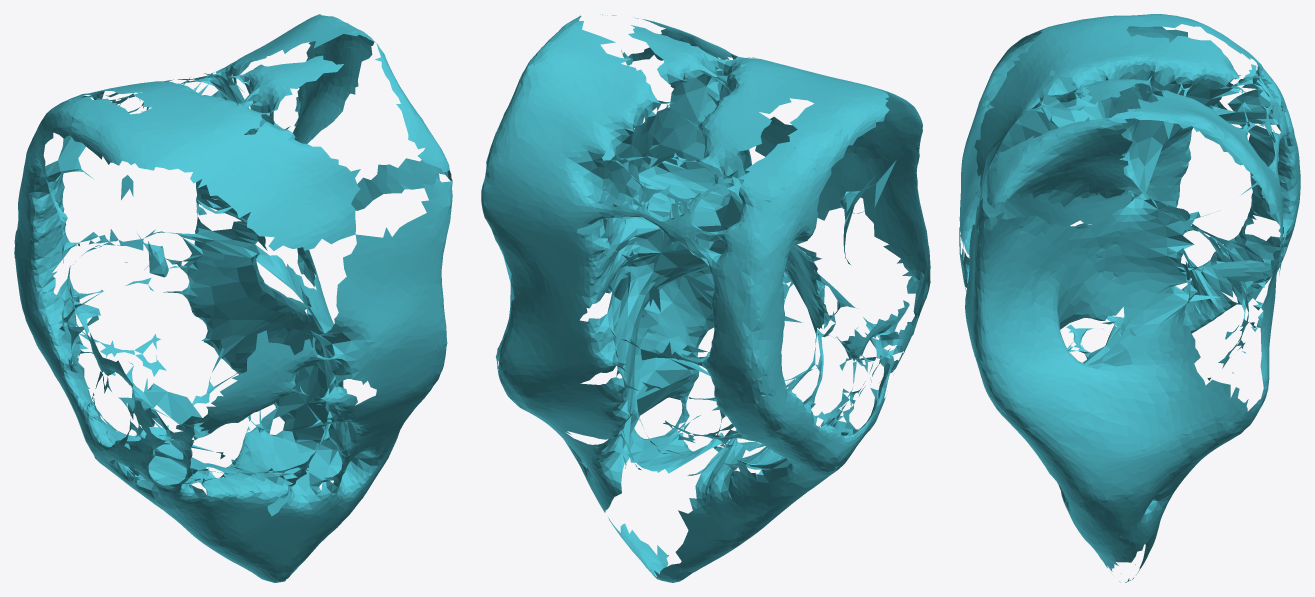
3 views of the same model, side by side, from view 1: azimuth 30°, elevation 25°; view 2: azimuth 150°, elevation 25°; view 3: azimuth 270°, elevation 25° (orthographic). The views are drawn at different scales.
Parts seen in each view (by area): view 1: Renderer Node; view 2: Renderer Node; view 3: Renderer Node.
Part boxes in pixels (x1=…): Renderer Node: x1=14, y1=14, x2=452, y2=582; Renderer Node: x1=481, y1=14, x2=930, y2=582; Renderer Node: x1=959, y1=14, x2=1300, y2=582.
Size of the model in its own units: 0.4091 by 0.6881 by 0.4183.
1 material, 1 textured.
